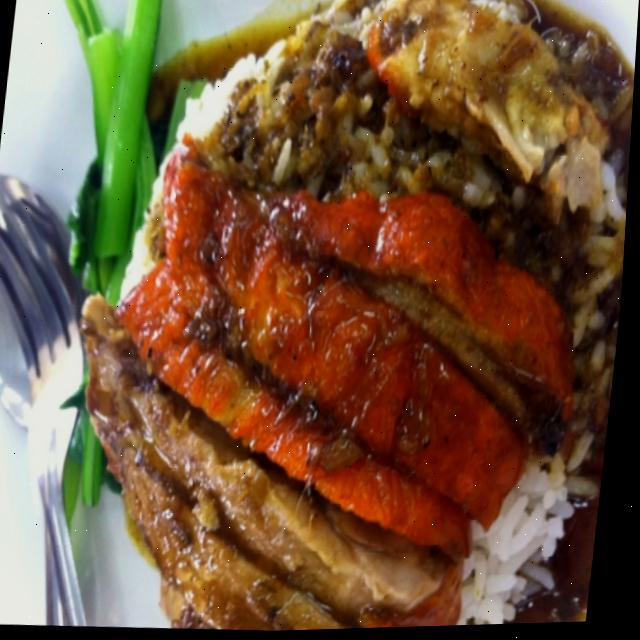米饭主食: (17, 0, 637, 621)
